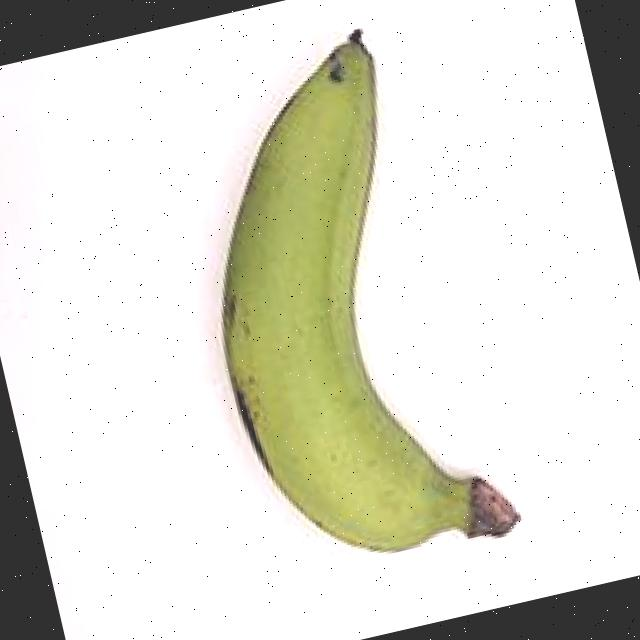Raw: (137, 1, 548, 610)
